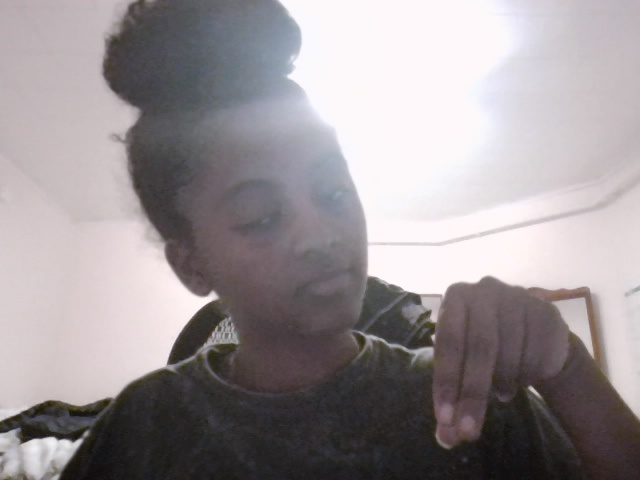No: (415, 273, 588, 460)
